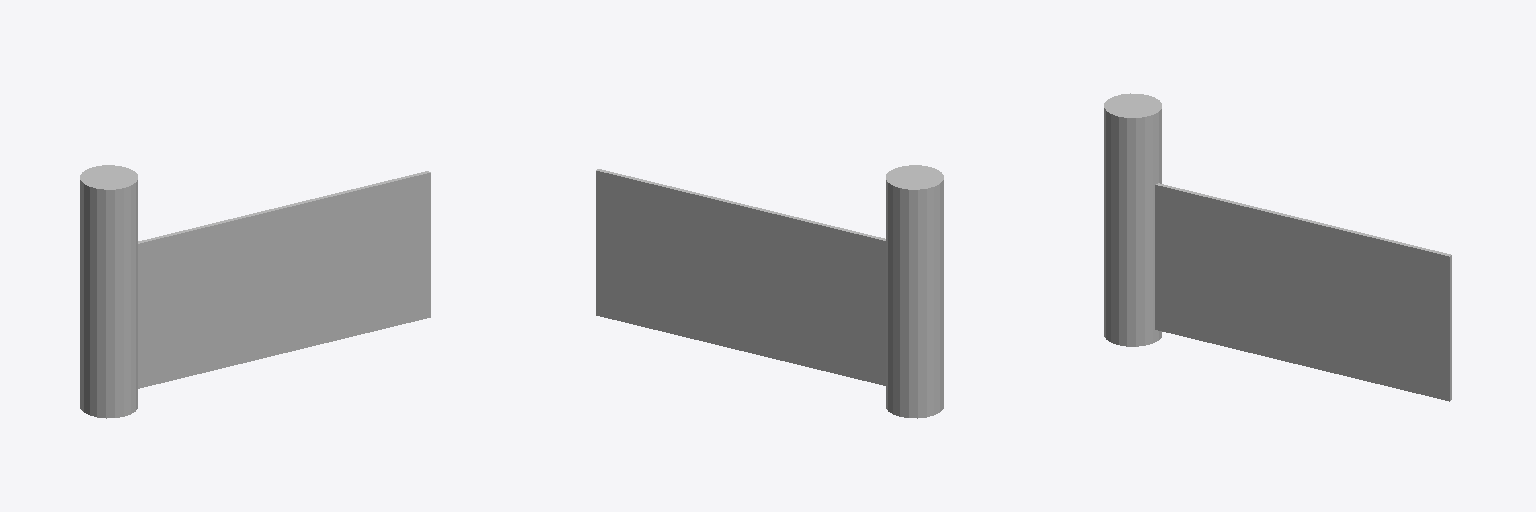
The model's file is walldouble1.obj.
The picture shows the model from 3 angles: view 1: azimuth 30°, elevation 25°; view 2: azimuth 150°, elevation 25°; view 3: azimuth 330°, elevation 25°; orthographic projection.
Visible parts, largest first — view 1: walldouble1; view 2: walldouble1; view 3: walldouble1.
Boxes of the visible parts, box(x1,y1,x2,y2) form: walldouble1: box(80, 165, 430, 418); walldouble1: box(596, 165, 943, 418); walldouble1: box(1104, 93, 1451, 401).
Size of the model in its own units: 43.33 by 27.5 by 6.39.